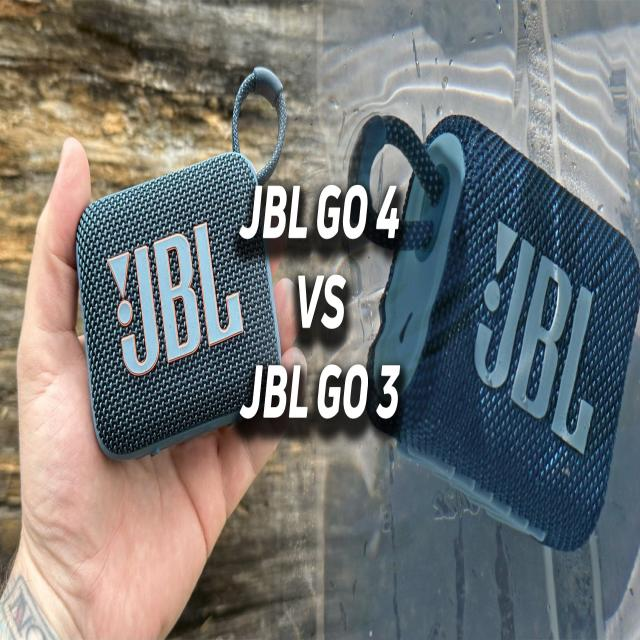column JBL: (68, 168, 294, 450)
